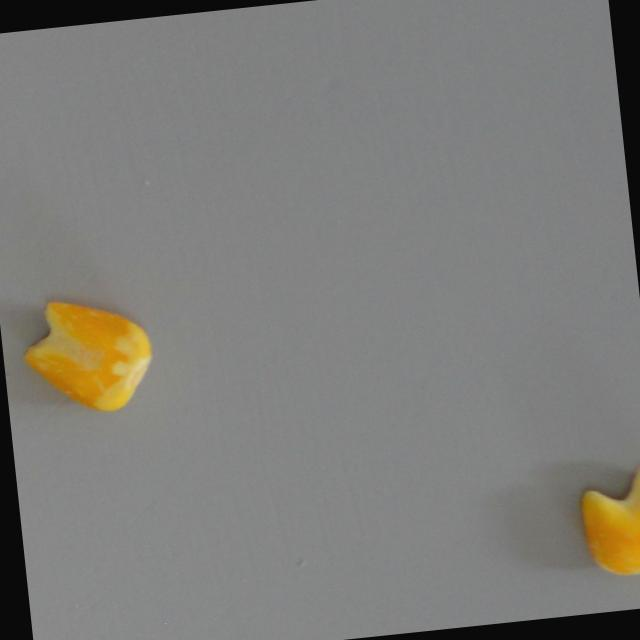no_canjicado: (575, 464, 640, 580)
pelicula: (16, 291, 157, 420)
